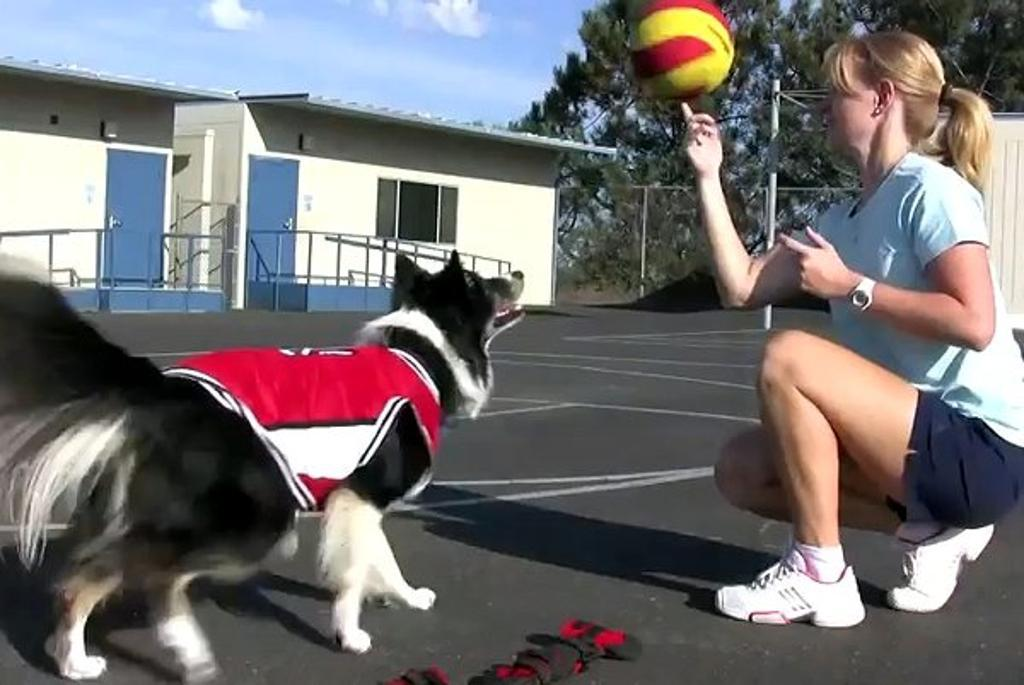face: (819, 45, 893, 149)
